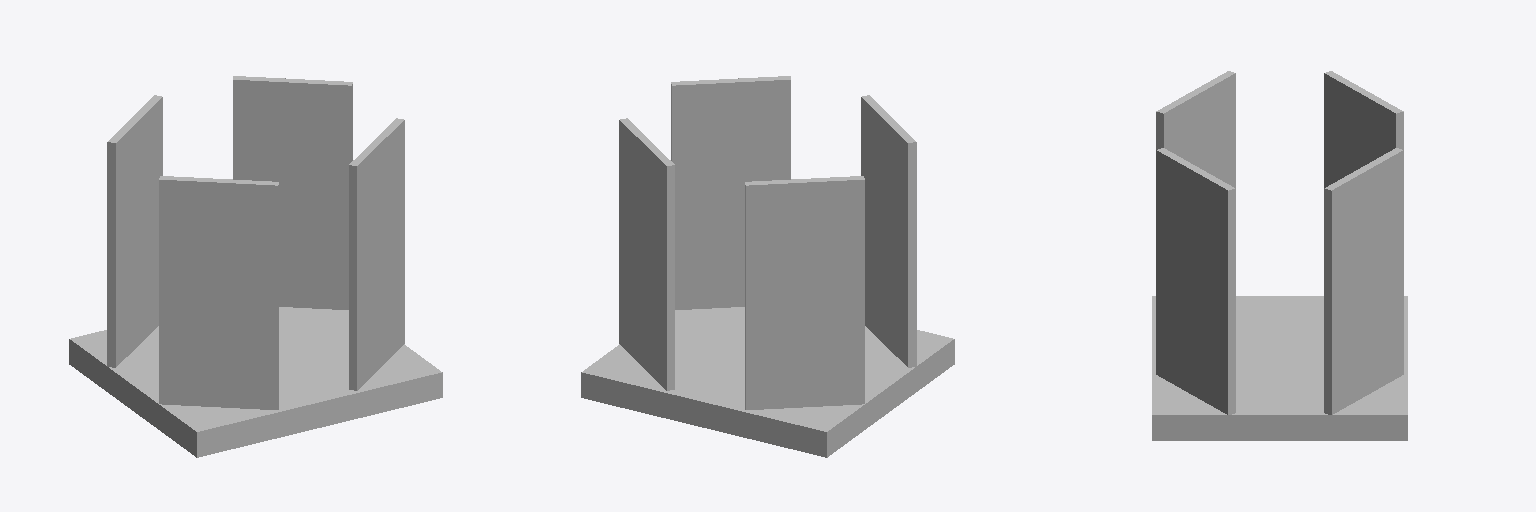
3 renders of one model, left to right at view 1: azimuth 30°, elevation 25°; view 2: azimuth 150°, elevation 25°; view 3: azimuth 270°, elevation 25°, orthographic.
Visible parts, largest first — view 1: plate, base; view 2: plate, base; view 3: plate, base.
Boxes of the visible parts, x1=… form: plate: x1=107, y1=76, x2=404, y2=409; base: x1=69, y1=307, x2=442, y2=457; plate: x1=619, y1=76, x2=916, y2=409; base: x1=581, y1=307, x2=954, y2=457; plate: x1=1156, y1=71, x2=1403, y2=414; base: x1=1152, y1=296, x2=1407, y2=440.
Bounding box in the file's own units: 10 × 9.75 × 9.